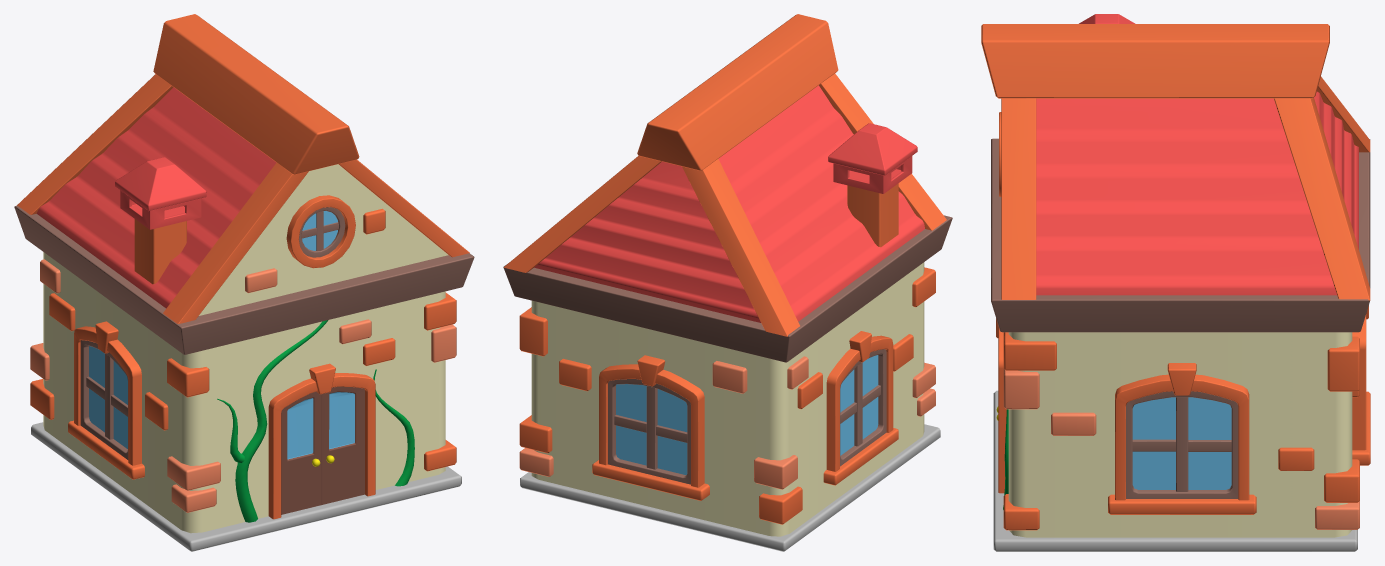
Rendered from Town_4_House_1.glb.
The picture shows the model from 3 angles, left to right: view 1: azimuth 30°, elevation 25°; view 2: azimuth 150°, elevation 25°; view 3: azimuth 270°, elevation 25°; orthographic projection. The views are drawn at different scales.
Visible parts, largest first — view 1: Town_4_House_1; view 2: Town_4_House_1; view 3: Town_4_House_1.
Part boxes in pixels (x1,y1,x2,y2): Town_4_House_1: (14, 14, 474, 551); Town_4_House_1: (503, 14, 952, 551); Town_4_House_1: (981, 14, 1370, 551).
Bounding box in the file's own units: 6.17 × 7.91 × 6.25.
Materials: 1 (1 with a texture image).
